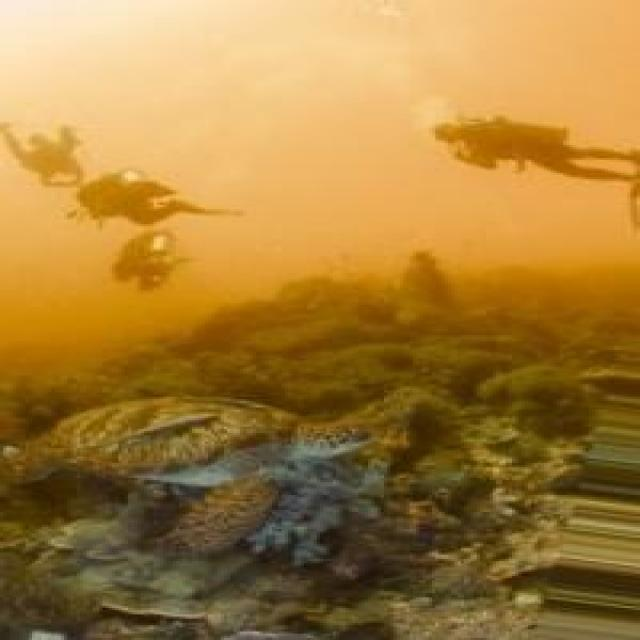Healthy: (203, 306, 622, 402), (388, 408, 577, 579), (91, 479, 279, 566), (231, 481, 343, 571), (59, 603, 318, 640)
